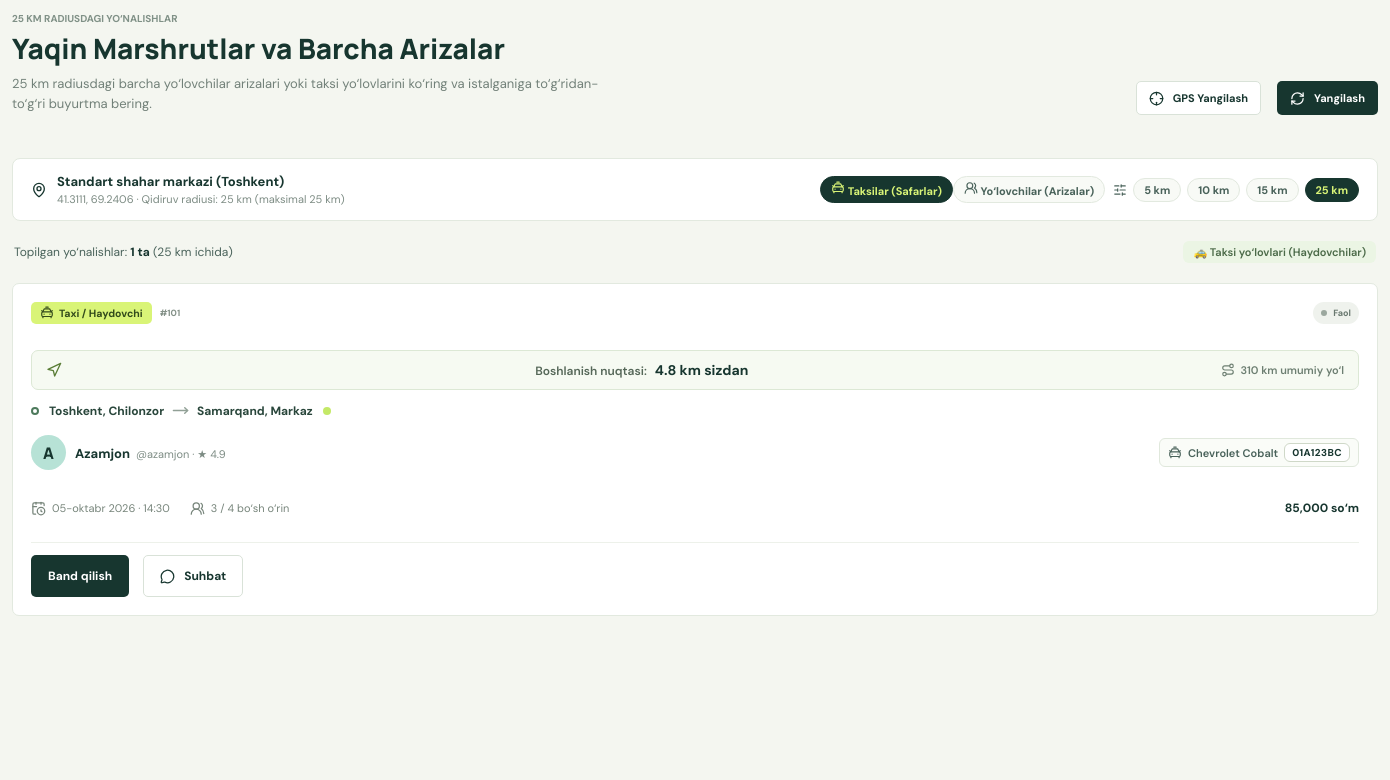
Scenario: DirectionsPage › handles backend error when booking fails (e.g. duplicate booking)
Click the button "Band qilish": (80,576) [31, 555, 129, 597]
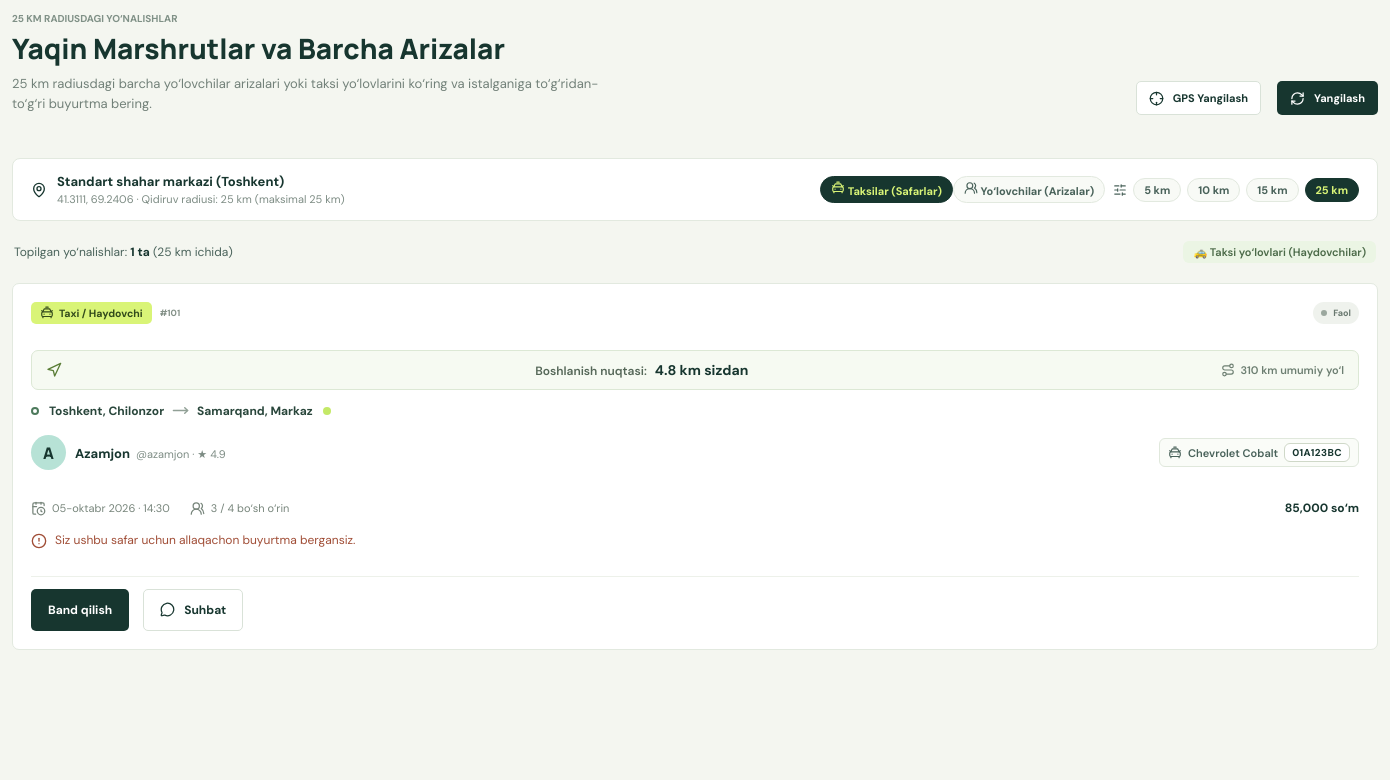
Now the text "Siz ushbu safar uchun allaqachon buyurtma bergansiz." is shown, box [55, 532, 356, 550]
